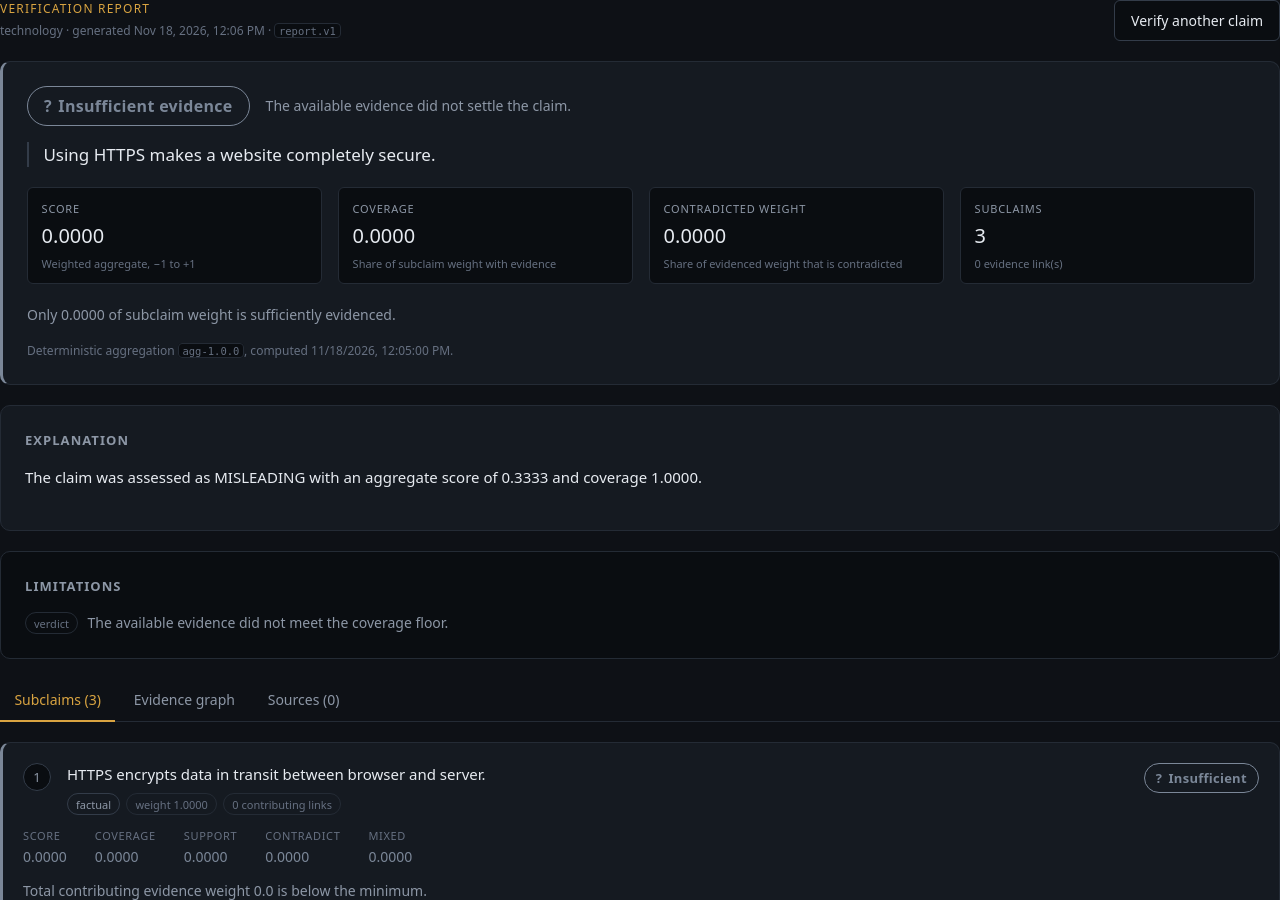
Test: ReportView — sources › renders an empty state when there are no sources
Click the tab "Sources (0)": {"x": 304, "y": 701} [253,680,354,722]
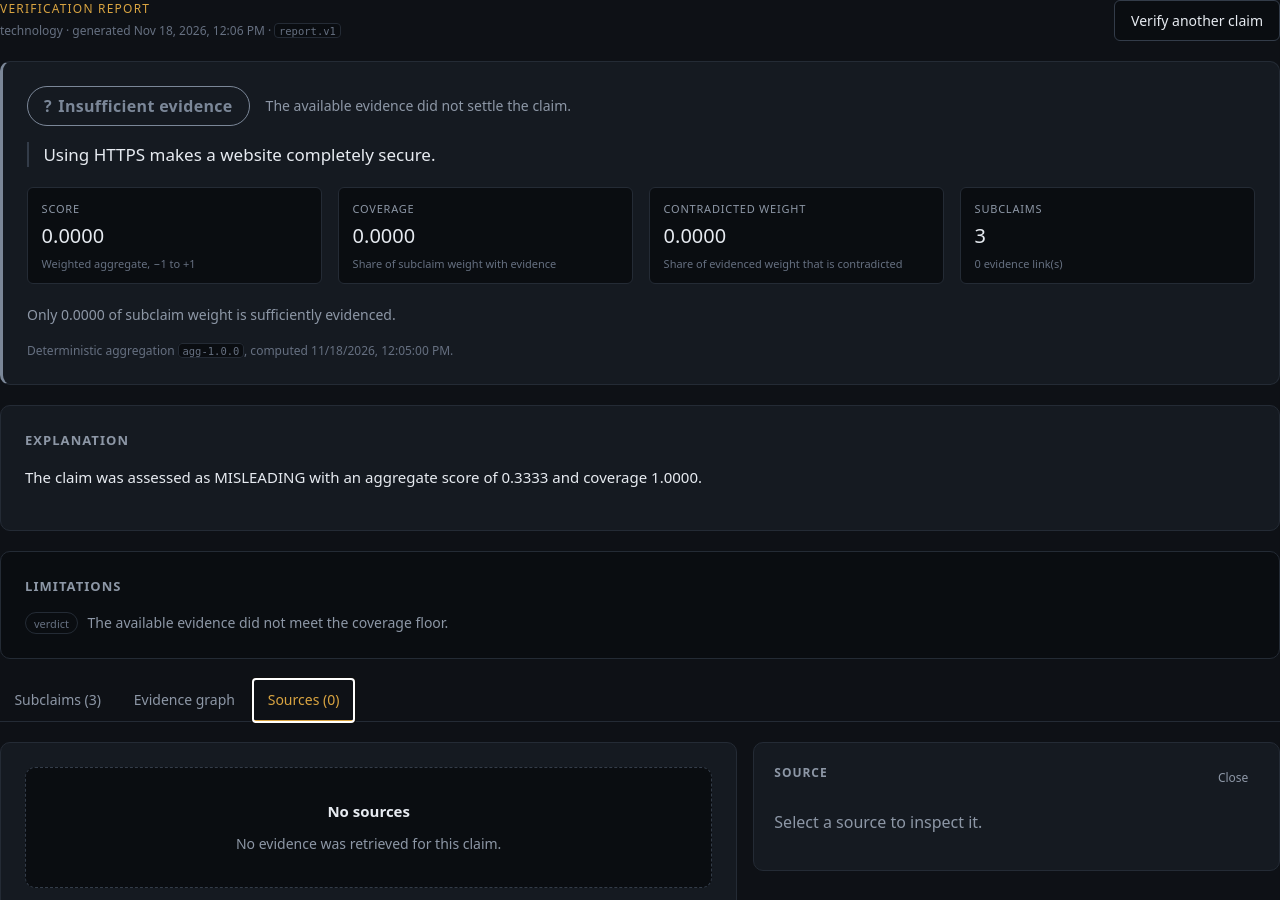
Expected: the text "No sources" is shown, [327,800,410,824]
